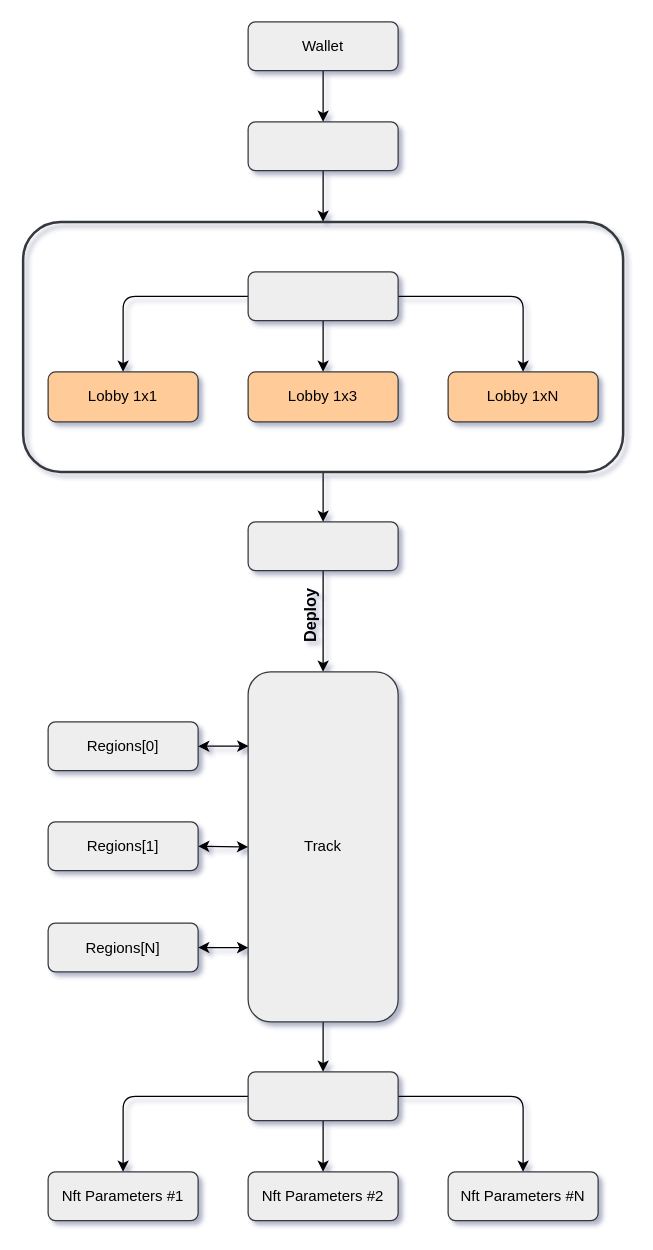
This 653x1250 diagram has some shape labels left out. Here are the shapes that lost their labels. From the top down, the centre of each, then its label:
At (x=322, y=146): "Debot".
At (x=322, y=296): "Queue".
At (x=322, y=546): "Root".
At (x=322, y=1096): "Editor".
